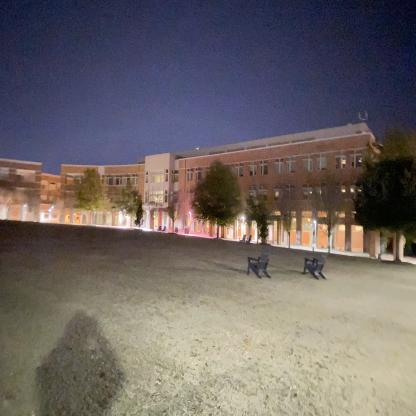eb3: (56, 120, 392, 256)
